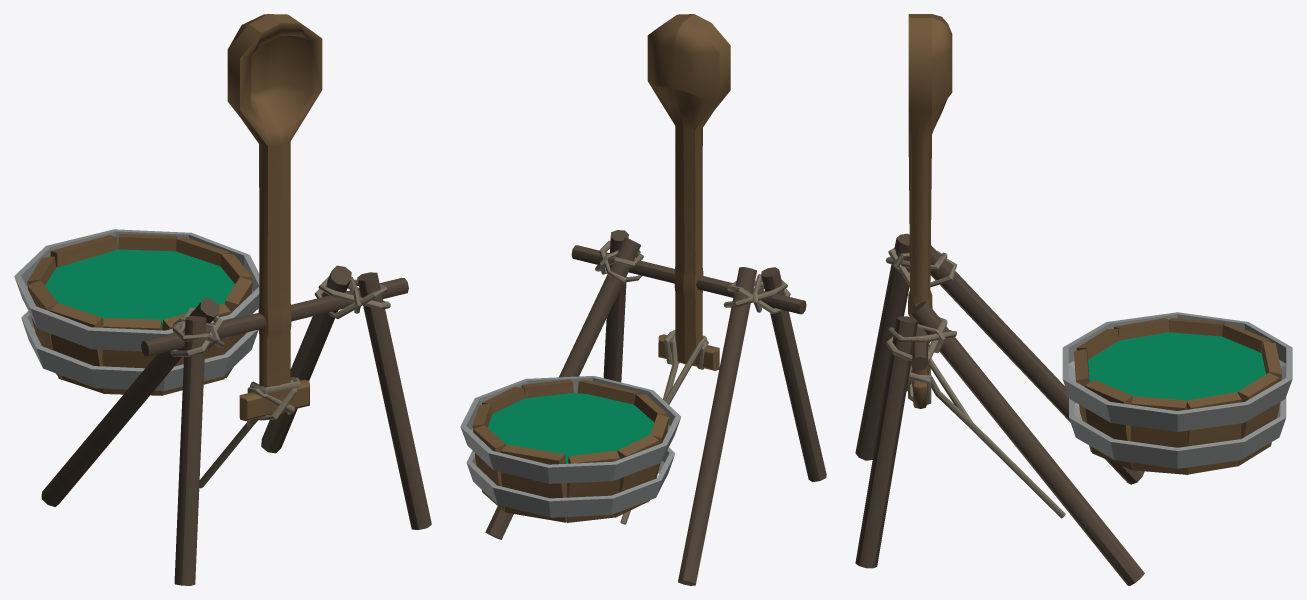
Rendered from goocatapultanime-v2.fbx.
The picture shows the model from 3 angles, left to right: view 1: azimuth 30°, elevation 25°; view 2: azimuth 150°, elevation 25°; view 3: azimuth 270°, elevation 25°; orthographic projection. The views are drawn at different scales.
Visible parts, largest first — view 1: spoon, goo, bucket, back_beams, top_bucket_ring, right_front_beam, left_front_beam, bottom_bucket_ring, main_beam, main_rope, left_rope, right_rope; view 2: spoon, back_beams, bucket, goo, top_bucket_ring, bottom_bucket_ring, right_front_beam, main_beam, left_front_beam, main_rope, right_rope, left_rope; view 3: back_beams, bucket, goo, spoon, top_bucket_ring, left_front_beam, bottom_bucket_ring, right_front_beam, main_rope, left_rope, right_rope.
Part boxes in pixels (bbox=[...]): spoon: bbox=[227, 14, 322, 420]; goo: bbox=[45, 247, 234, 328]; bucket: bbox=[27, 234, 252, 395]; back_beams: bbox=[41, 265, 351, 506]; top_bucket_ring: bbox=[14, 229, 259, 351]; right_front_beam: bbox=[174, 316, 206, 585]; left_front_beam: bbox=[357, 272, 431, 529]; bottom_bucket_ring: bbox=[21, 311, 258, 391]; main_beam: bbox=[141, 278, 408, 356]; main_rope: bbox=[199, 377, 301, 488]; left_rope: bbox=[314, 276, 390, 318]; right_rope: bbox=[170, 307, 224, 356]; spoon: bbox=[647, 14, 730, 370]; back_beams: bbox=[485, 237, 756, 585]; bucket: bbox=[472, 379, 668, 522]; goo: bbox=[487, 393, 654, 463]; top_bucket_ring: bbox=[460, 376, 680, 483]; bottom_bucket_ring: bbox=[466, 447, 675, 517]; right_front_beam: bbox=[761, 267, 826, 481]; main_beam: bbox=[571, 245, 806, 314]; left_front_beam: bbox=[603, 230, 628, 382]; main_rope: bbox=[620, 330, 708, 524]; right_rope: bbox=[723, 274, 790, 313]; left_rope: bbox=[595, 239, 643, 282]; back_beams: bbox=[909, 245, 1144, 585]; bucket: bbox=[1073, 318, 1281, 474]; goo: bbox=[1088, 332, 1265, 400]; spoon: bbox=[908, 14, 952, 408]; top_bucket_ring: bbox=[1062, 312, 1292, 431]; left_front_beam: bbox=[855, 316, 918, 568]; bottom_bucket_ring: bbox=[1069, 397, 1286, 468]; right_front_beam: bbox=[855, 233, 909, 460]; main_rope: bbox=[906, 358, 1065, 518]; left_rope: bbox=[885, 317, 956, 361]; right_rope: bbox=[885, 247, 956, 287].
Size of the model in its own units: 2.09 by 4.15 by 3.19.
